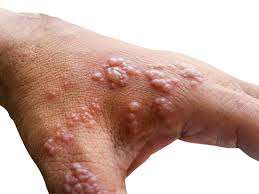herpes: (99, 51, 193, 139)
